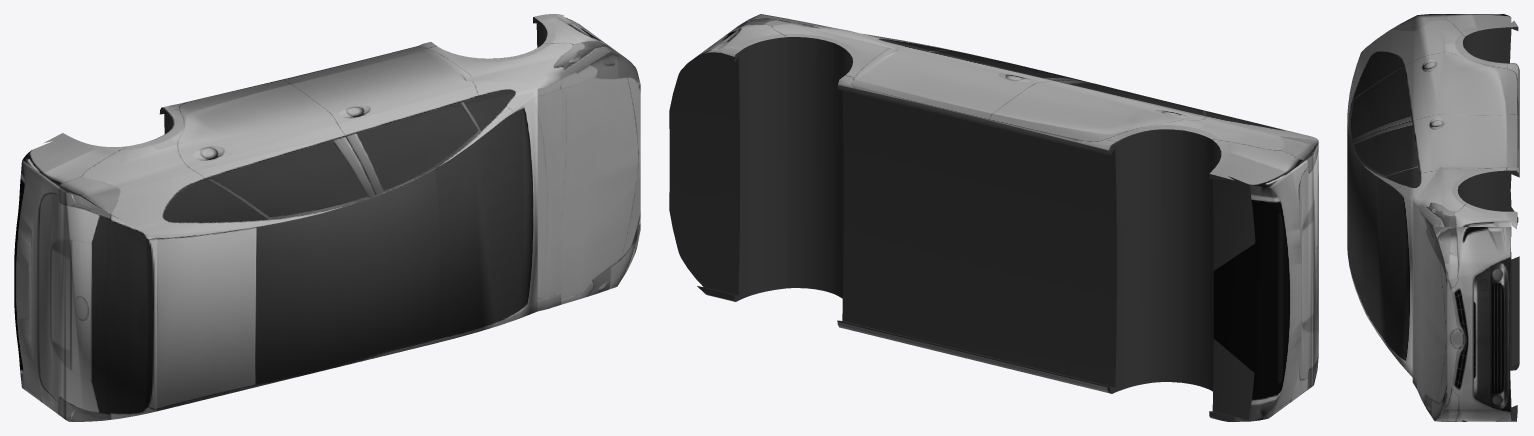
File: prius.obj
3 views of the same model, side by side, from view 1: azimuth 30°, elevation 25°; view 2: azimuth 150°, elevation 25°; view 3: azimuth 270°, elevation 25° (orthographic). The views are drawn at different scales.
Parts seen in each view (by area): view 1: prius_scaled; view 2: prius_scaled; view 3: prius_scaled.
Part boxes in pixels (<box>): prius_scaled: <box>14,14,640,421</box>; prius_scaled: <box>669,14,1318,421</box>; prius_scaled: <box>1347,14,1519,421</box>.
Size of the model in its own units: 4.63 by 1.82 by 1.4.
Materials: 1 (1 with a texture image).
